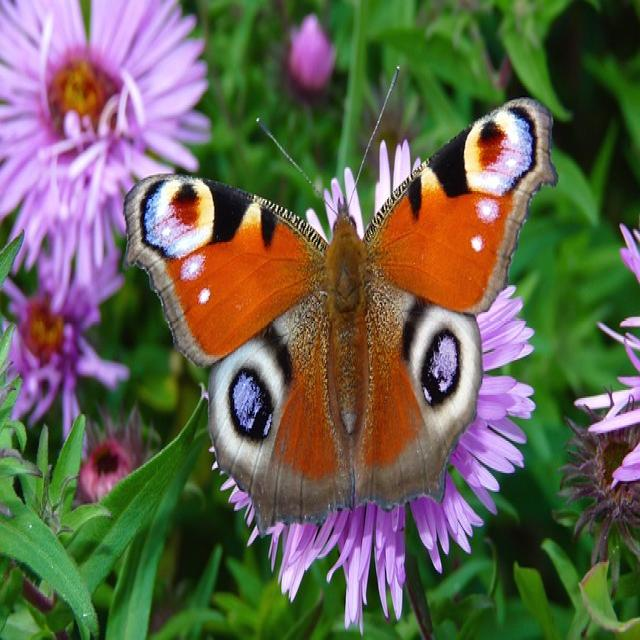butterfly: (127, 116, 551, 600)
